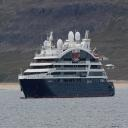cruises: (18, 23, 118, 102)
